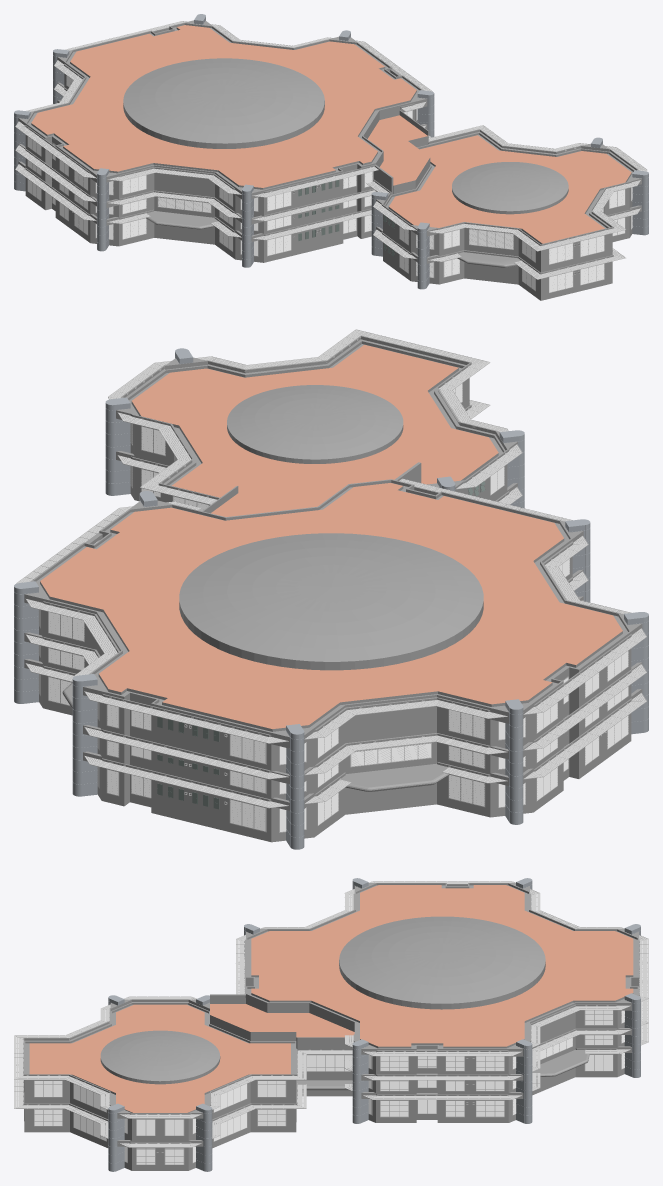
File: BlockA.fbx
3 renders of one model, top to bottom at view 1: azimuth 30°, elevation 25°; view 2: azimuth 150°, elevation 25°; view 3: azimuth 270°, elevation 25°, orthographic. The views are drawn at different scales.
Visible parts, largest first — view 1: Roof, Walls, Domed, Gutters, Big Windows, Pillars, Support, Small Windows; view 2: Roof, Walls, Domed, Gutters, Big Windows, Pillars, Support, Small Windows; view 3: Roof, Walls, Domed, Big Windows, Gutters, Pillars, Support.
Part boxes in pixels (x1=…): Roof: x1=31, y1=25, x2=631, y2=243; Walls: x1=18, y1=20, x2=641, y2=300; Domed: x1=123, y1=58, x2=568, y2=214; Gutters: x1=16, y1=21, x2=646, y2=278; Big Windows: x1=27, y1=75, x2=632, y2=292; Pillars: x1=14, y1=14, x2=648, y2=289; Support: x1=15, y1=21, x2=647, y2=279; Small Windows: x1=298, y1=180, x2=394, y2=256; Roof: x1=40, y1=345, x2=622, y2=729; Walls: x1=24, y1=335, x2=642, y2=842; Domed: x1=179, y1=385, x2=483, y2=670; Gutters: x1=17, y1=330, x2=645, y2=807; Big Windows: x1=38, y1=383, x2=628, y2=832; Pillars: x1=14, y1=348, x2=648, y2=849; Support: x1=16, y1=329, x2=646, y2=808; Small Windows: x1=157, y1=481, x2=485, y2=809; Roof: x1=29, y1=885, x2=633, y2=1112; Walls: x1=23, y1=883, x2=639, y2=1170; Domed: x1=100, y1=916, x2=545, y2=1084; Big Windows: x1=24, y1=985, x2=624, y2=1164; Gutters: x1=14, y1=881, x2=648, y2=1147; Pillars: x1=108, y1=878, x2=640, y2=1171; Support: x1=14, y1=881, x2=648, y2=1147.
Size of the model in its own units: 10983 by 2002 by 13254.
